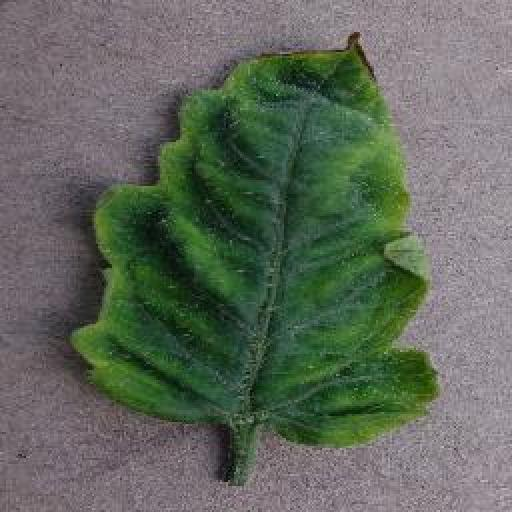Yellow Leaf Curl Virus: (66, 28, 438, 453)
